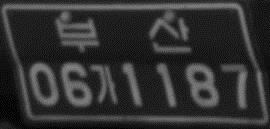0: (27, 59, 60, 108)
1: (118, 60, 146, 108), (154, 60, 180, 108)
6: (59, 60, 92, 108)
7: (217, 62, 250, 111)
8: (185, 61, 219, 108)
가: (89, 63, 121, 106)
부산_D: (52, 14, 192, 55)
